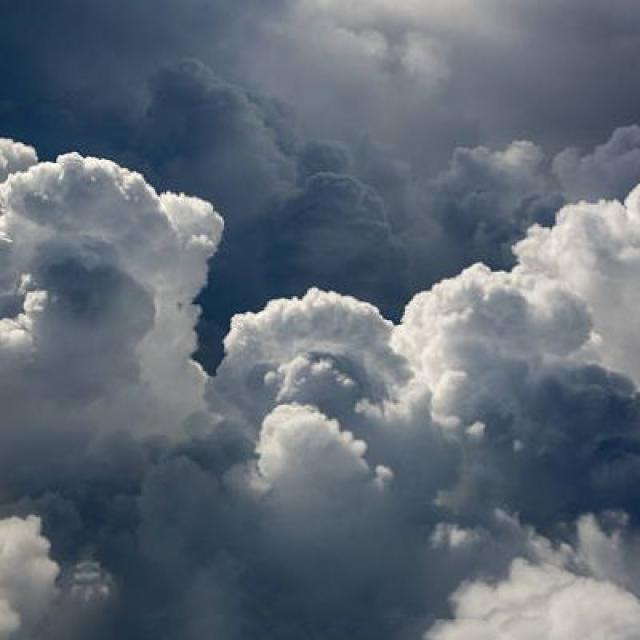Cu: (1, 113, 640, 574)
